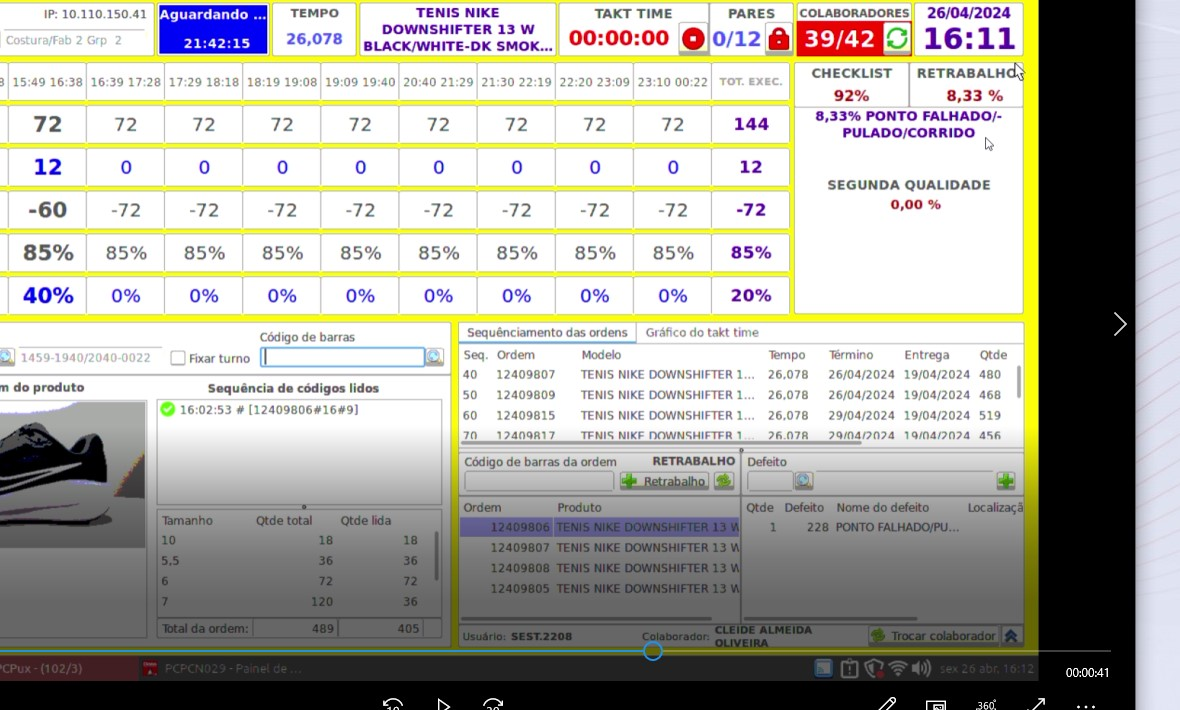takt_time: (560, 3, 681, 51)
